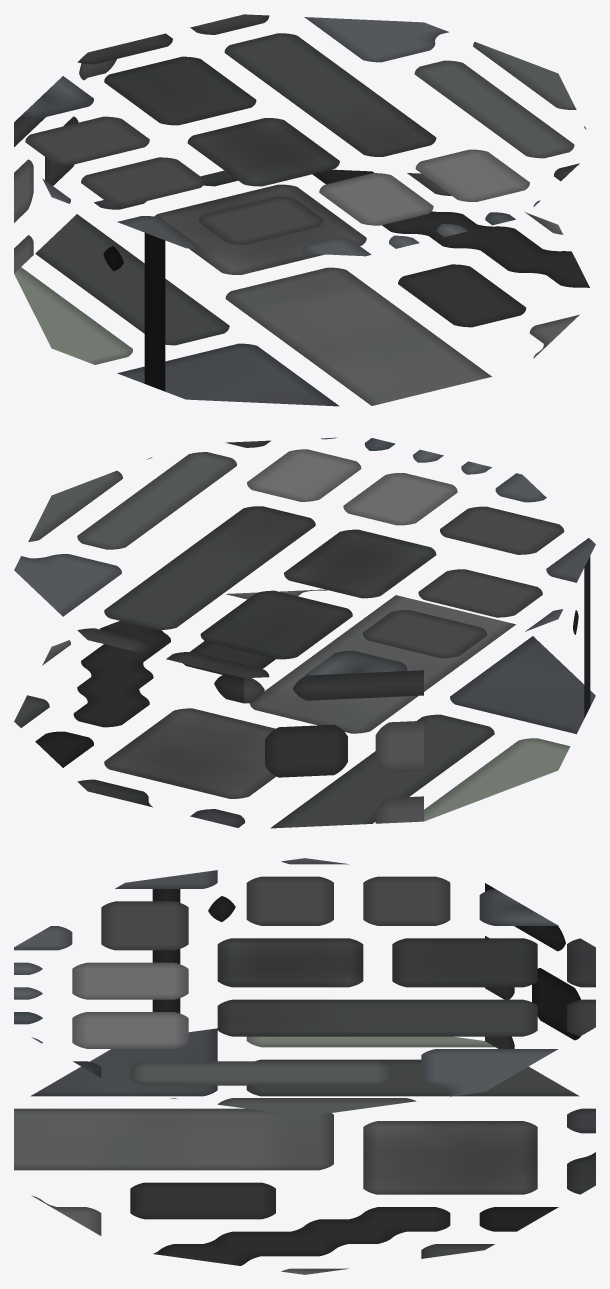
Rendered from air_spring_left.obj.
3 renders of one model, top to bottom at view 1: azimuth 30°, elevation 25°; view 2: azimuth 150°, elevation 25°; view 3: azimuth 270°, elevation 25°, orthographic. The views are drawn at different scales.
Parts seen in each view (by area): view 1: 3a1b611a-45a7-b152-643b-6c1df8530aea; view 2: 3a1b611a-45a7-b152-643b-6c1df8530aea; view 3: 3a1b611a-45a7-b152-643b-6c1df8530aea.
Part boxes in pixels (x1=…): 3a1b611a-45a7-b152-643b-6c1df8530aea: x1=14, y1=14, x2=589, y2=406; 3a1b611a-45a7-b152-643b-6c1df8530aea: x1=14, y1=437, x2=595, y2=828; 3a1b611a-45a7-b152-643b-6c1df8530aea: x1=14, y1=858, x2=595, y2=1274.
Bounding box in the file's own units: 0.6572 × 0.1875 × 0.625.
